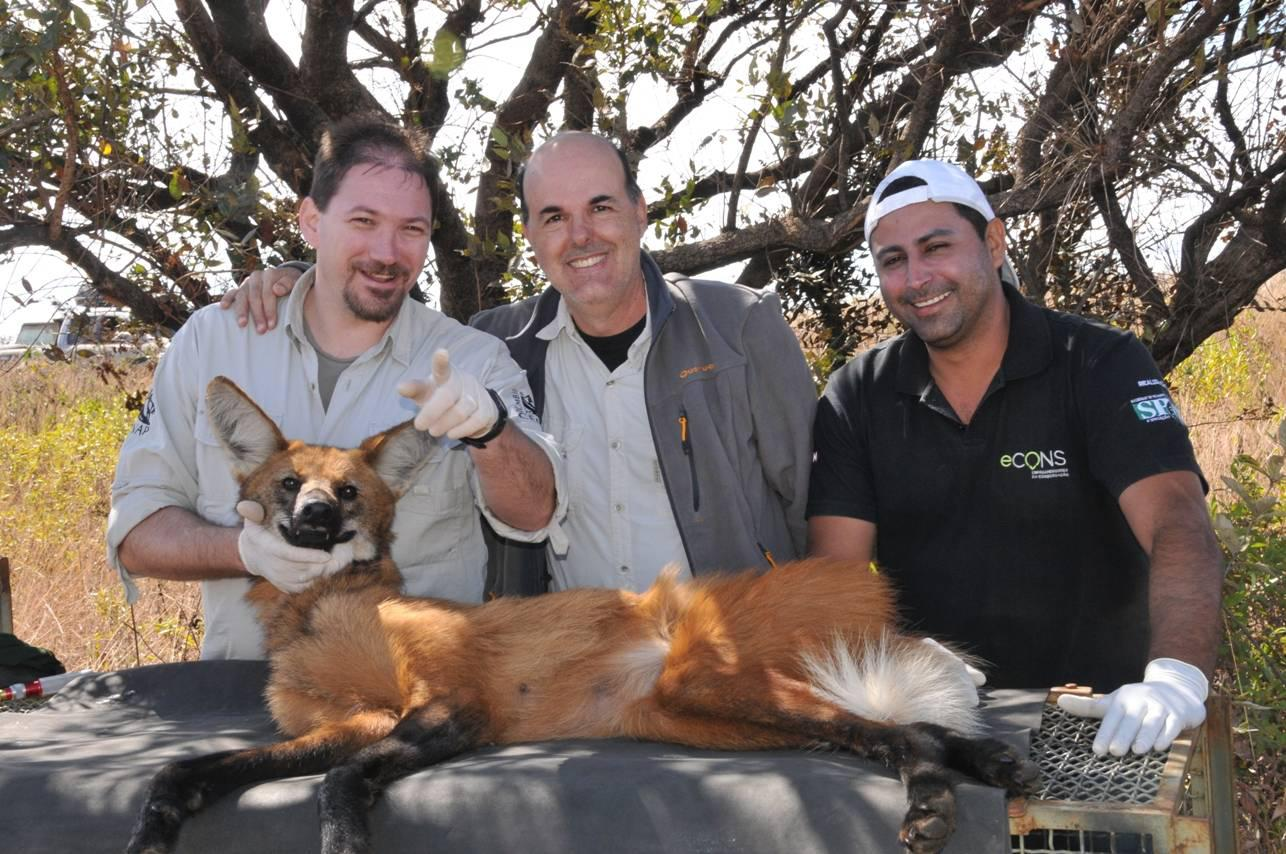LoboGuara: (180, 383, 1050, 834)
